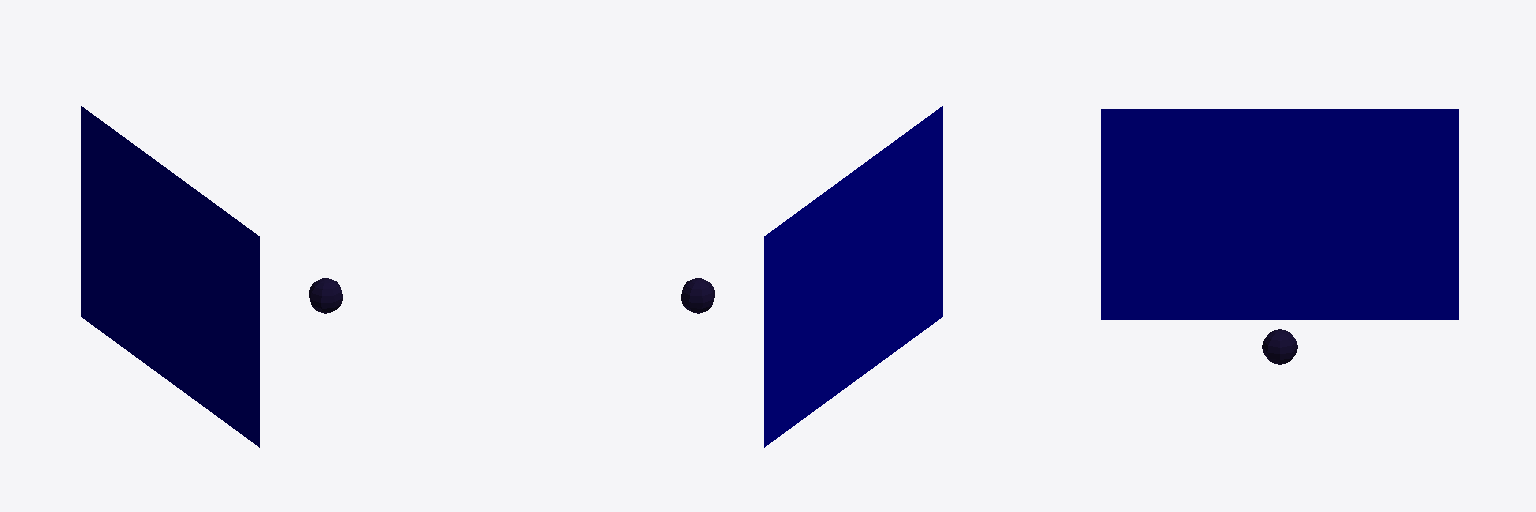
The picture shows the model from 3 angles: view 1: azimuth 30°, elevation 25°; view 2: azimuth 150°, elevation 25°; view 3: azimuth 270°, elevation 25°; orthographic projection.
Visible parts, largest first — view 1: Light, Sphere; view 2: Light, Sphere; view 3: Light, Sphere.
Part boxes in pixels (x1,y1,x2,y2): Light: (81, 106, 259, 447); Sphere: (309, 278, 342, 313); Light: (764, 106, 942, 447); Sphere: (681, 278, 714, 313); Light: (1101, 109, 1458, 319); Sphere: (1262, 329, 1297, 364).
Size of the model in its own units: 11 by 13 by 20.